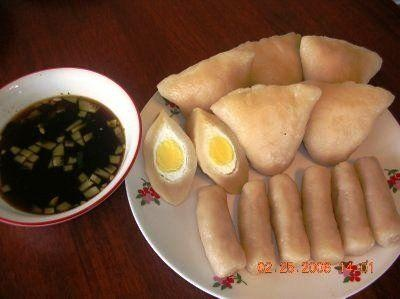pempek: (143, 32, 400, 273)
